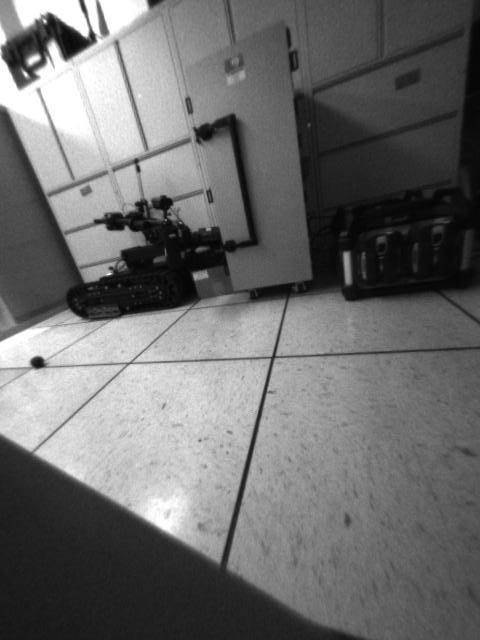dogtoy: (22, 348, 53, 375)
